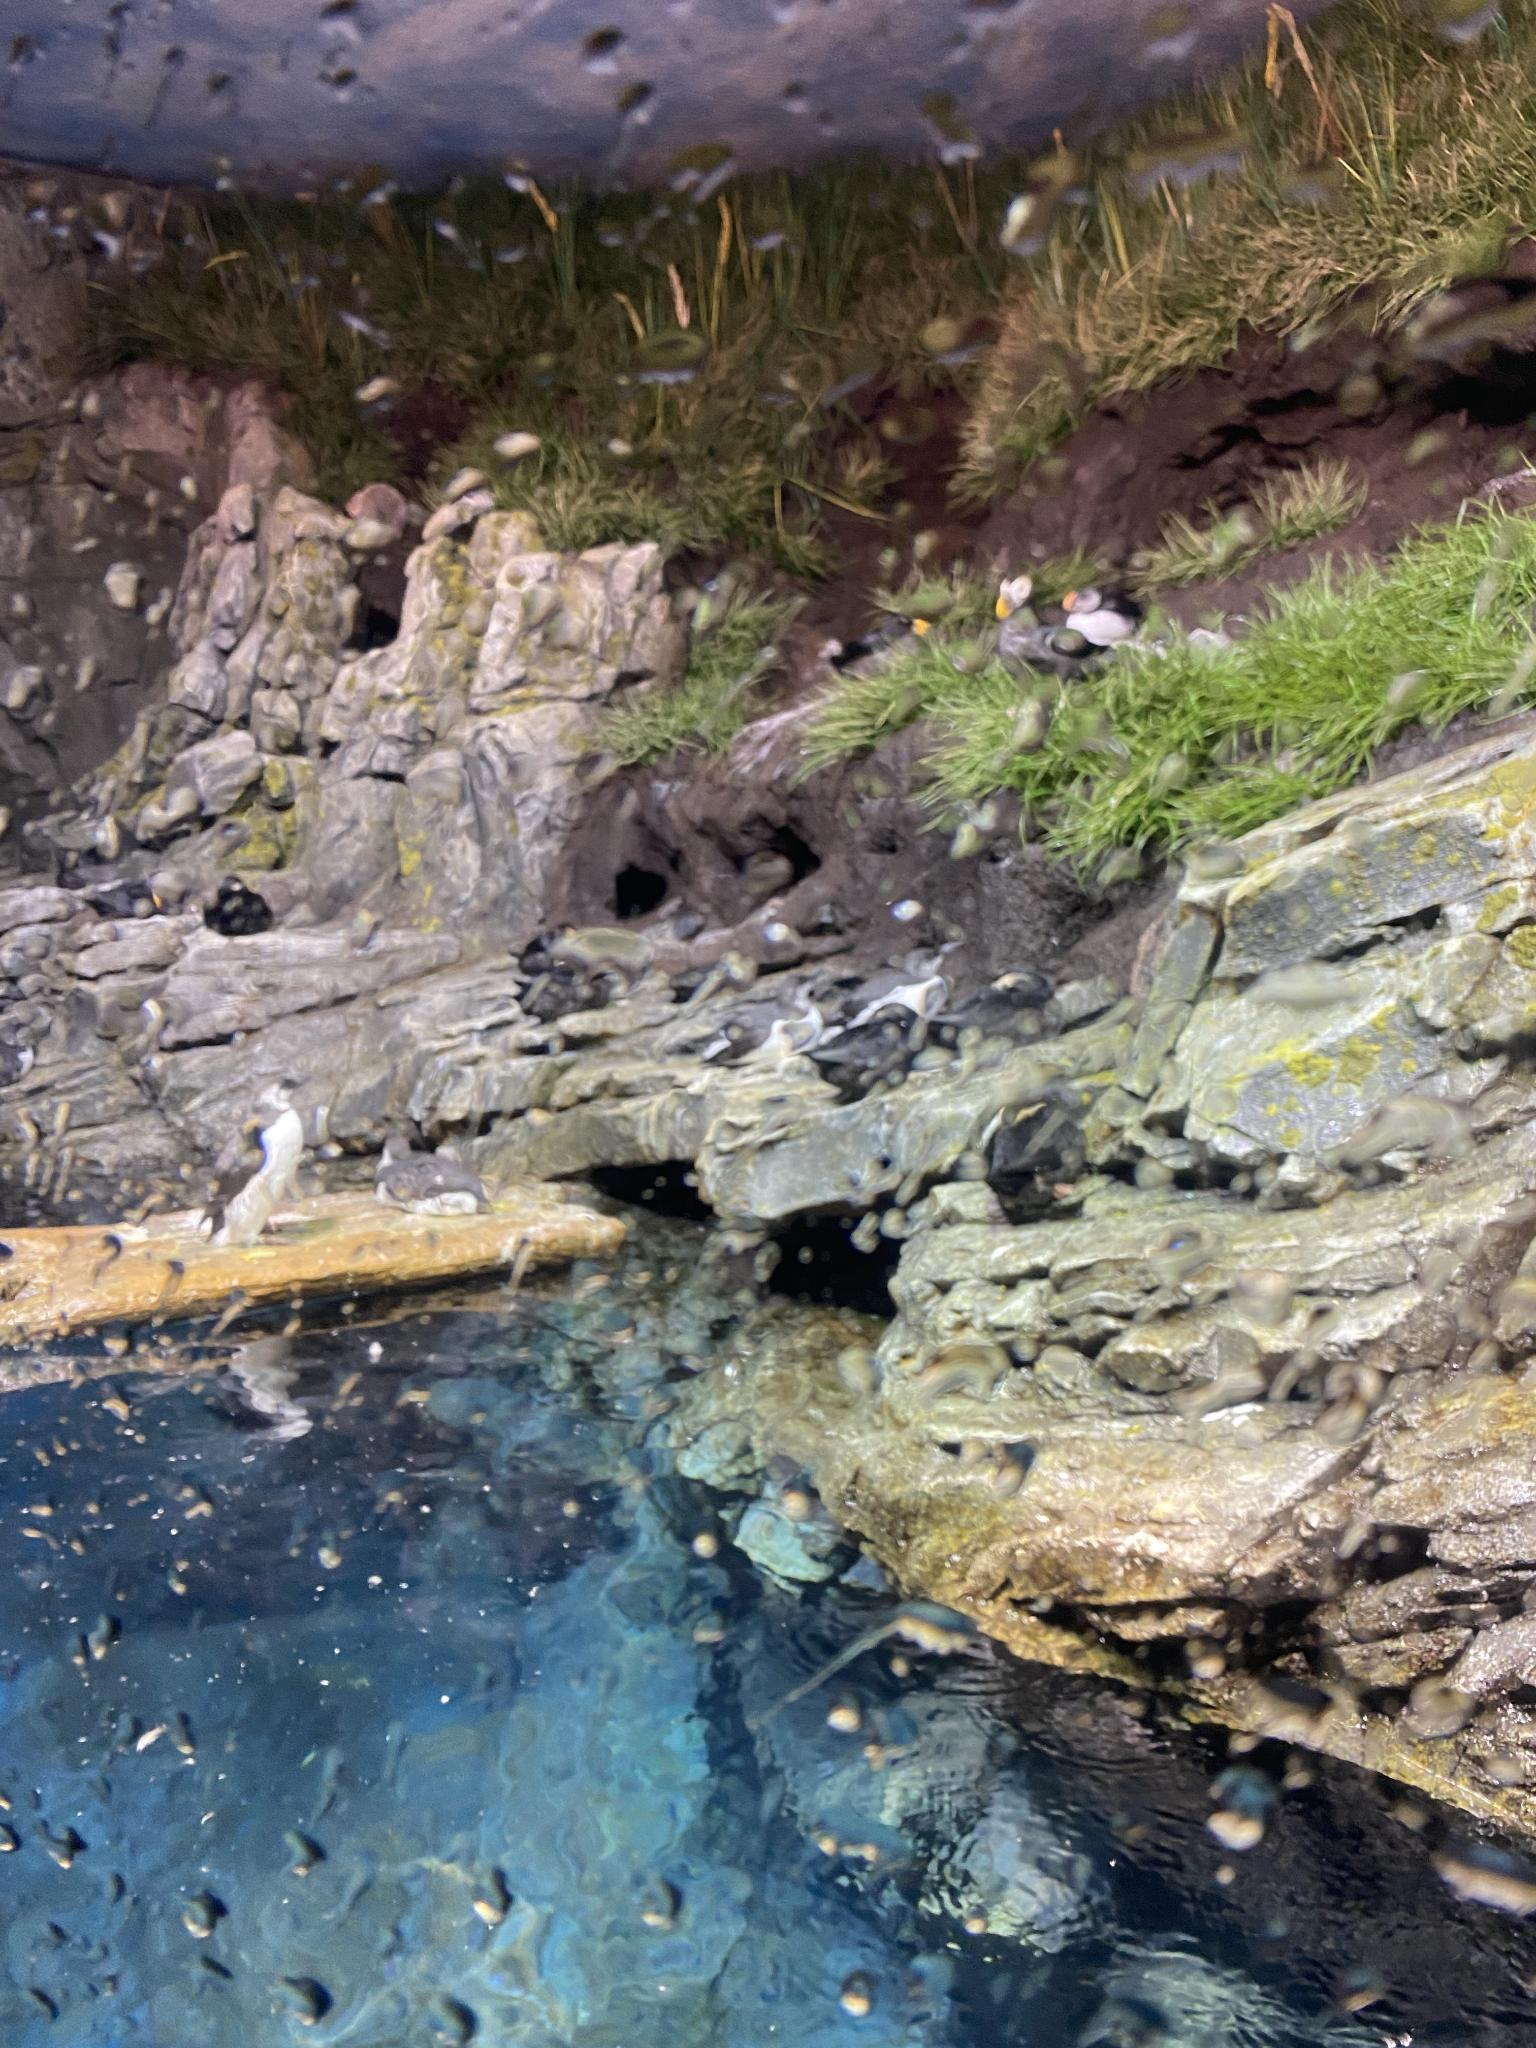puffin: (381, 1134, 489, 1216), (1057, 589, 1142, 660), (995, 572, 1060, 664), (202, 872, 273, 930), (84, 879, 165, 921)
starfish: (198, 1076, 303, 1250)
